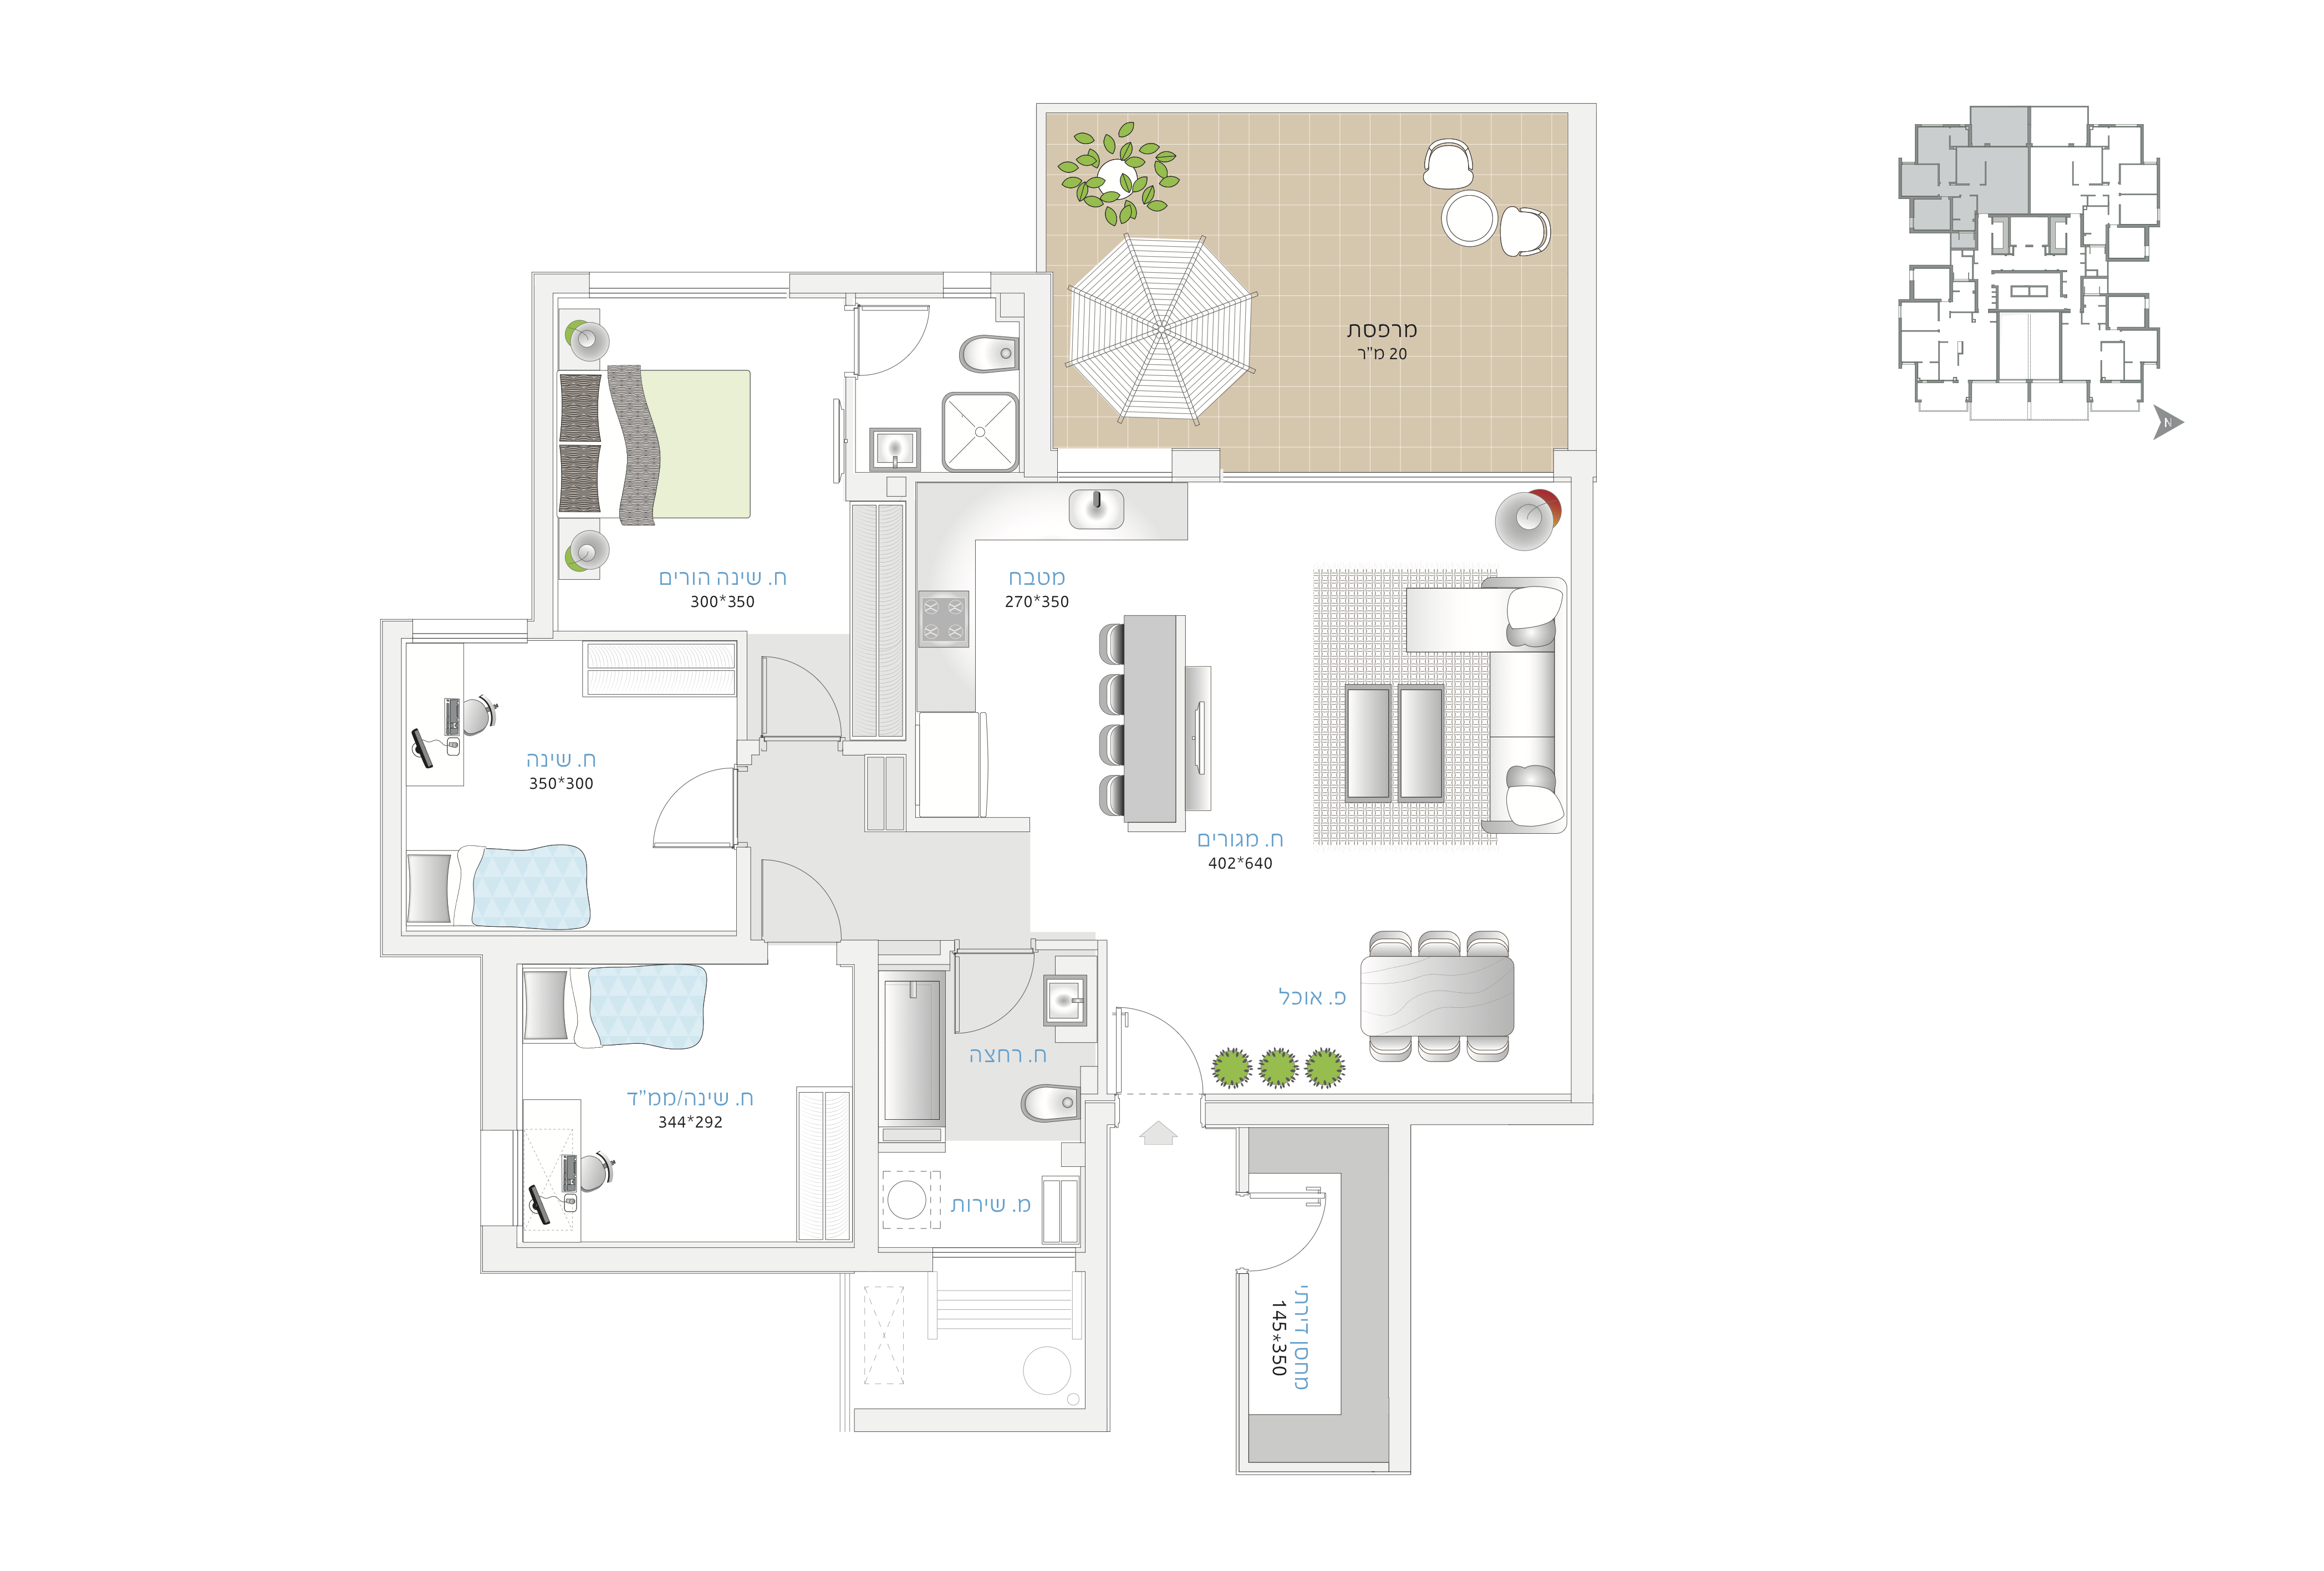door: (1113, 998, 1211, 1087), (948, 957, 1039, 1047), (752, 852, 843, 942), (754, 649, 845, 738), (647, 766, 736, 856), (1251, 1187, 1334, 1278)
md: (331, 54, 1665, 1536)
rd: (1865, 61, 2210, 477)
room: (480, 942, 876, 1273), (531, 274, 857, 642), (380, 629, 745, 957)
wall: (1572, 479, 1593, 1124)
window: (589, 274, 789, 298), (480, 1129, 524, 1227), (1057, 449, 1173, 482), (412, 619, 528, 643), (943, 272, 992, 298)
